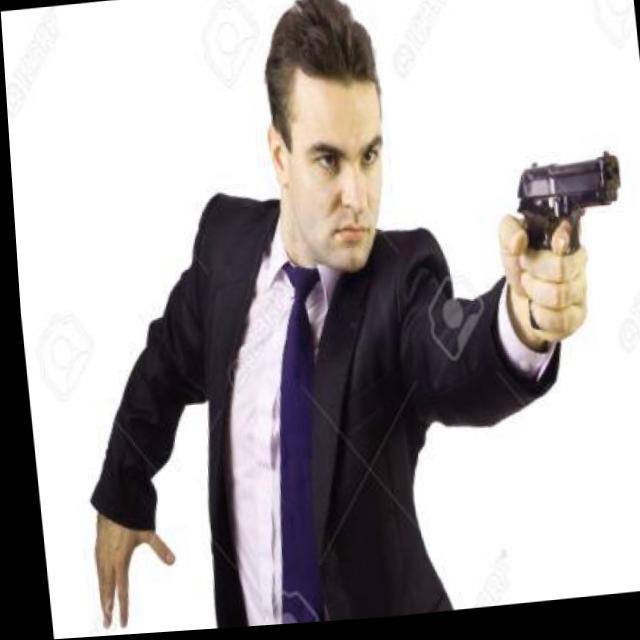weapon: (495, 152, 640, 354)
